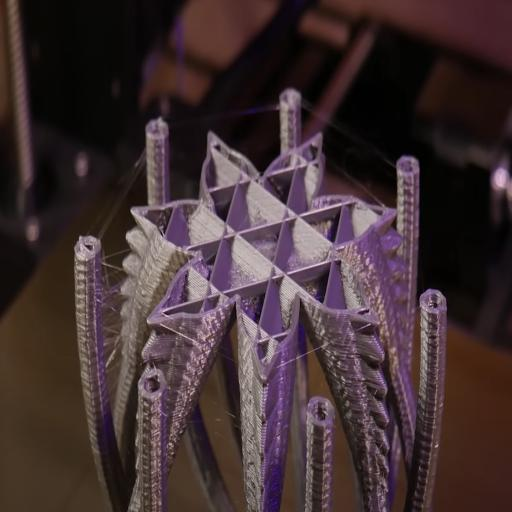stringing: (272, 318, 380, 388), (86, 150, 154, 250), (95, 248, 136, 378)
